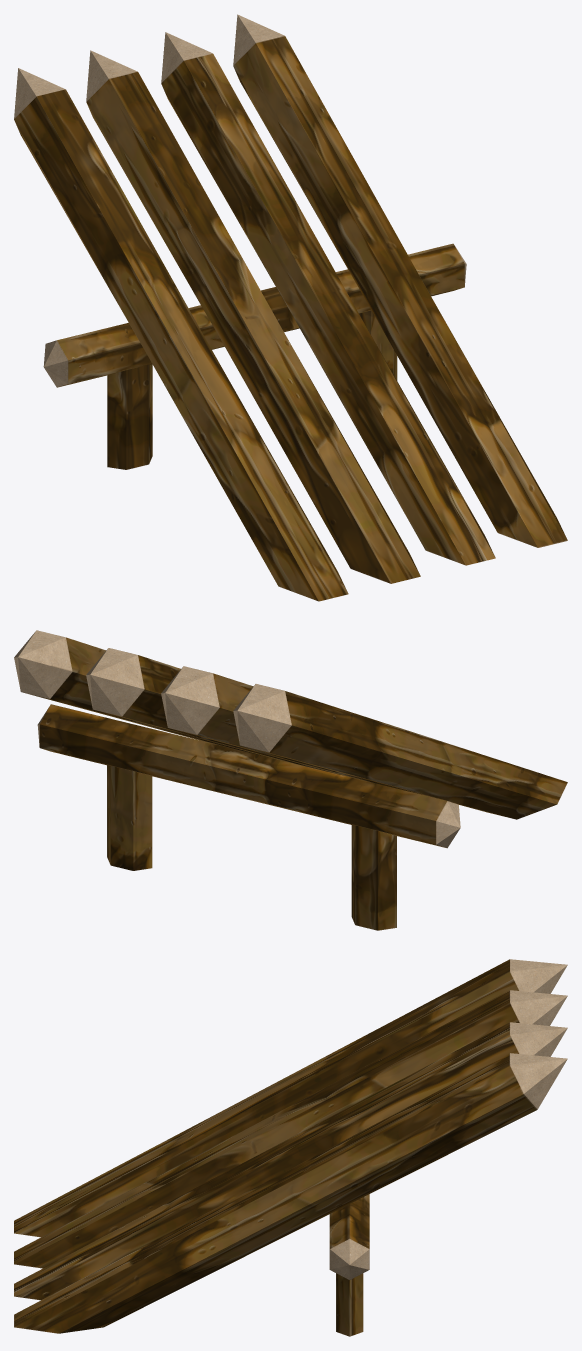
File: NewBarricade.fbx
3 views of the same model, one above another, from view 1: azimuth 30°, elevation 25°; view 2: azimuth 150°, elevation 25°; view 3: azimuth 270°, elevation 25° (orthographic). The views are drawn at different scales.
Parts seen in each view (by area): view 1: Barricade; view 2: Barricade; view 3: Barricade.
Boxes of the visible parts, box(x1,y1,x2,y2) form: Barricade: box(14, 14, 567, 601); Barricade: box(14, 630, 567, 930); Barricade: box(14, 959, 567, 1336).
Bounding box in the file's own units: 222 × 150 × 287.
